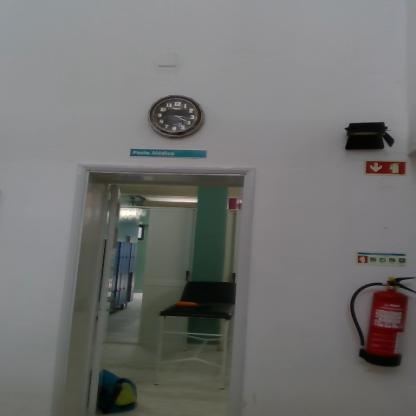open: (75, 158, 268, 413)
